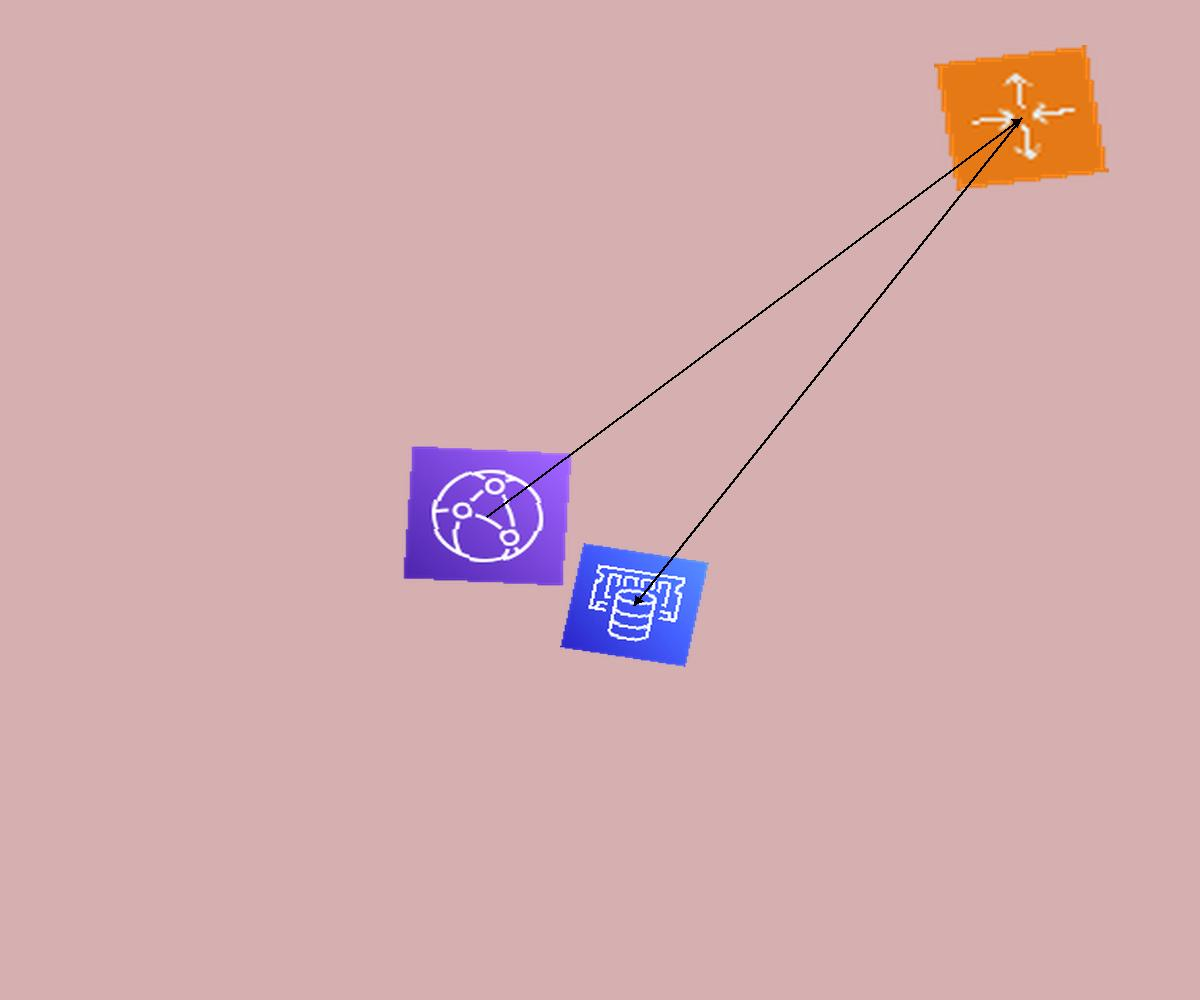AWS-CloudFront: (402, 445, 573, 587)
AWS-ElastiCache: (560, 543, 709, 667)
AWS-Scaling-group: (934, 45, 1109, 191)
